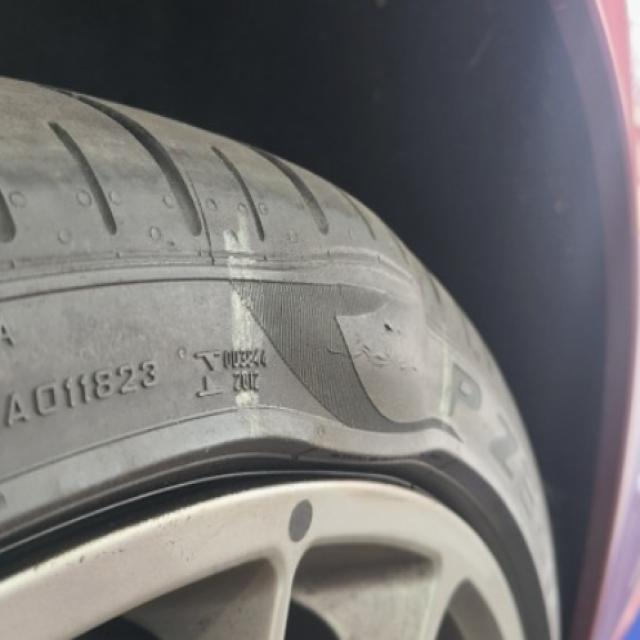Bulge: (239, 193, 462, 457)
